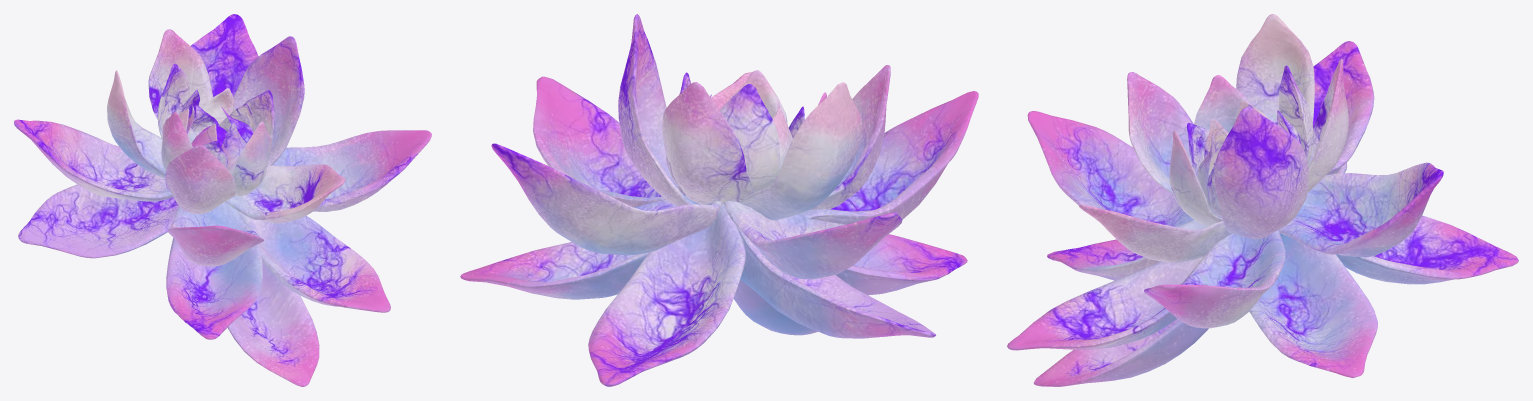
The model's file is bright-water-lily.glb.
The picture shows the model from 3 angles, left to right: view 1: azimuth 30°, elevation 25°; view 2: azimuth 150°, elevation 25°; view 3: azimuth 270°, elevation 25°; orthographic projection. The views are drawn at different scales.
Visible parts, largest first — view 1: Merged_PM3D_Sphere3D6_12; view 2: Merged_PM3D_Sphere3D6_12; view 3: Merged_PM3D_Sphere3D6_12.
Boxes of the visible parts, <box> form: Merged_PM3D_Sphere3D6_12: <box>14,14,431,386</box>; Merged_PM3D_Sphere3D6_12: <box>460,14,978,386</box>; Merged_PM3D_Sphere3D6_12: <box>1007,14,1518,386</box>.
Size of the model in its own units: 0.0973 by 0.0704 by 0.1016.
1 material, 1 textured.
